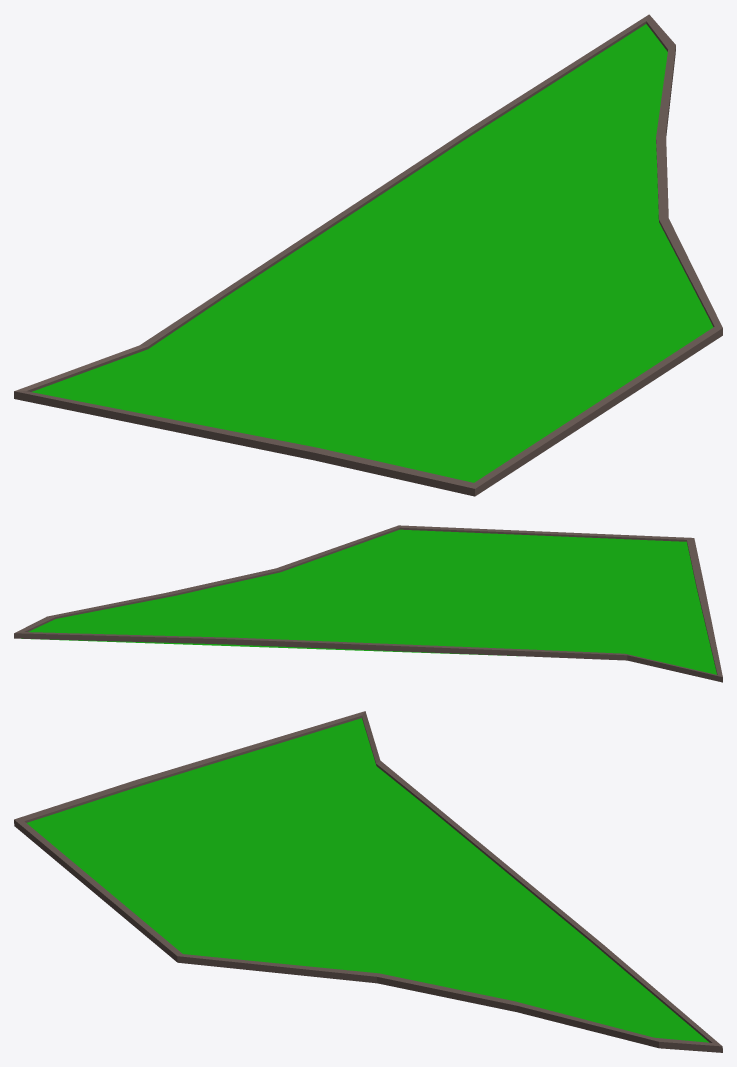
File: vegetation_place.fbx
3 views of the same model, one above another, from view 1: azimuth 30°, elevation 25°; view 2: azimuth 150°, elevation 25°; view 3: azimuth 270°, elevation 25° (orthographic). The views are drawn at different scales.
Parts seen in each view (by area): view 1: polySurface47; view 2: polySurface47; view 3: polySurface47.
Boxes of the visible parts, left/top/right/bottom form: polySurface47: left=14, top=14, right=722, bottom=496; polySurface47: left=14, top=525, right=722, bottom=682; polySurface47: left=14, top=711, right=722, bottom=1052.
Size of the model in its own units: 53.02 by 1.7 by 45.69.
